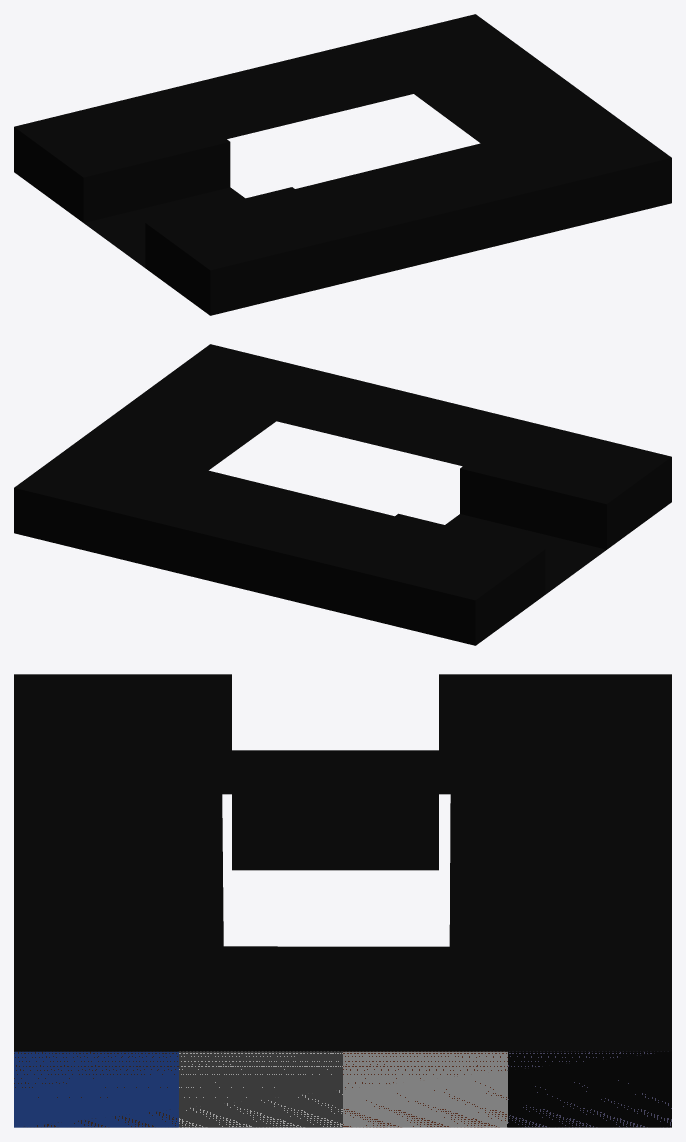
The model's file is Dest_Palace_Field_Wall.FBX.
3 renders of one model, top to bottom at view 1: azimuth 30°, elevation 25°; view 2: azimuth 150°, elevation 25°; view 3: azimuth 270°, elevation 25°, orthographic. The views are drawn at different scales.
Parts seen in each view (by area): view 1: Object001; view 2: Object001; view 3: Object001.
Part boxes in pixels (<box>): Object001: <box>14,14,671,315</box>; Object001: <box>14,344,671,645</box>; Object001: <box>14,674,671,1127</box>.
Bounding box in the file's own units: 4306 × 405 × 3172.
